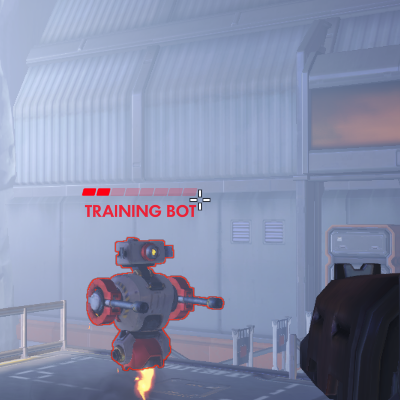hpbar: (81, 187, 198, 197)
